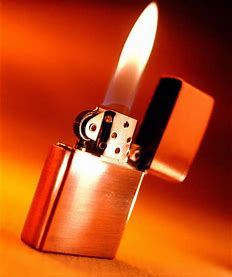Fire: (106, 1, 163, 115)
